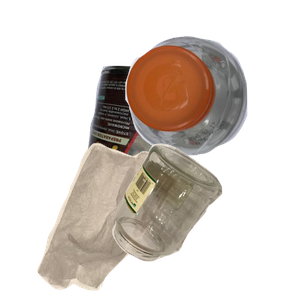glass: (110, 141, 300, 300)
metal: (78, 63, 266, 243)
plastic: (123, 33, 300, 181)
trash: (35, 140, 203, 300)
